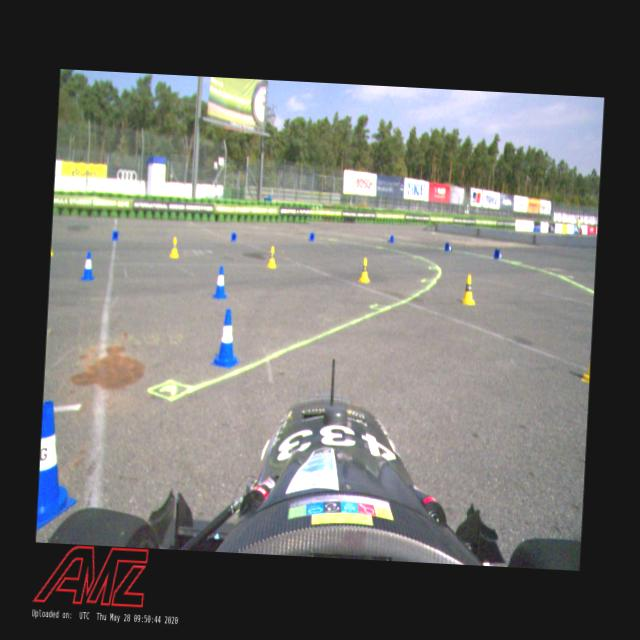blue_cone: (36, 400, 81, 532), (209, 307, 242, 368), (212, 266, 228, 300), (80, 251, 96, 281), (493, 248, 503, 260), (111, 230, 119, 241), (230, 232, 238, 243), (444, 242, 452, 252), (309, 232, 315, 242), (388, 234, 394, 243)
yellow_cone: (460, 274, 478, 306), (358, 258, 371, 284), (266, 245, 278, 269), (168, 236, 180, 258)
